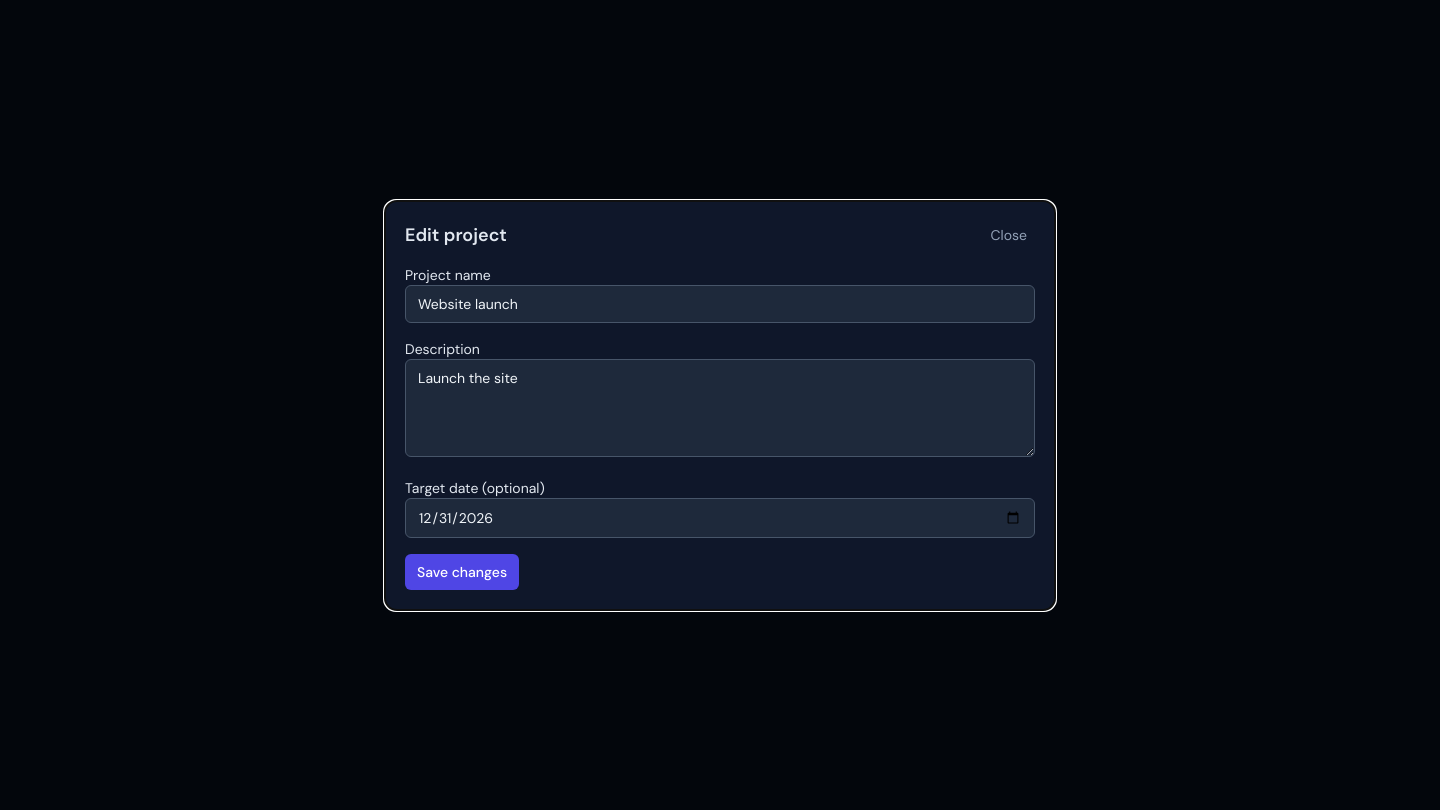
keeps entered values and shows errors when saving fails
The width and height of the screenshot is (1440, 810).
Step 1. Replace the text in the field labelled "Project name" with "Renamed" → (720, 304), box left=405, top=284, right=1035, bottom=322
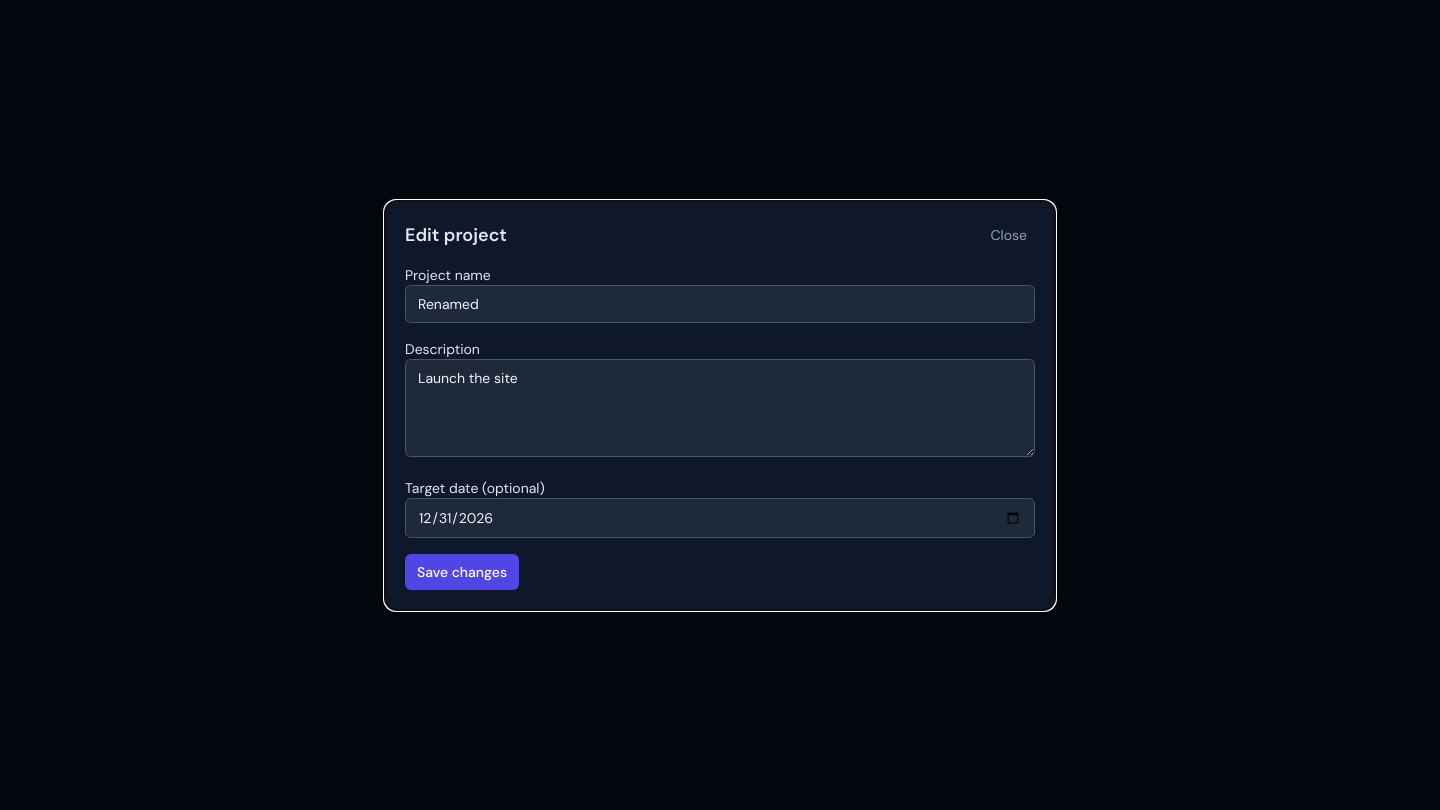
Step 2. Clear the date field labelled "Target date (optional)" → (720, 518), box left=405, top=498, right=1035, bottom=538
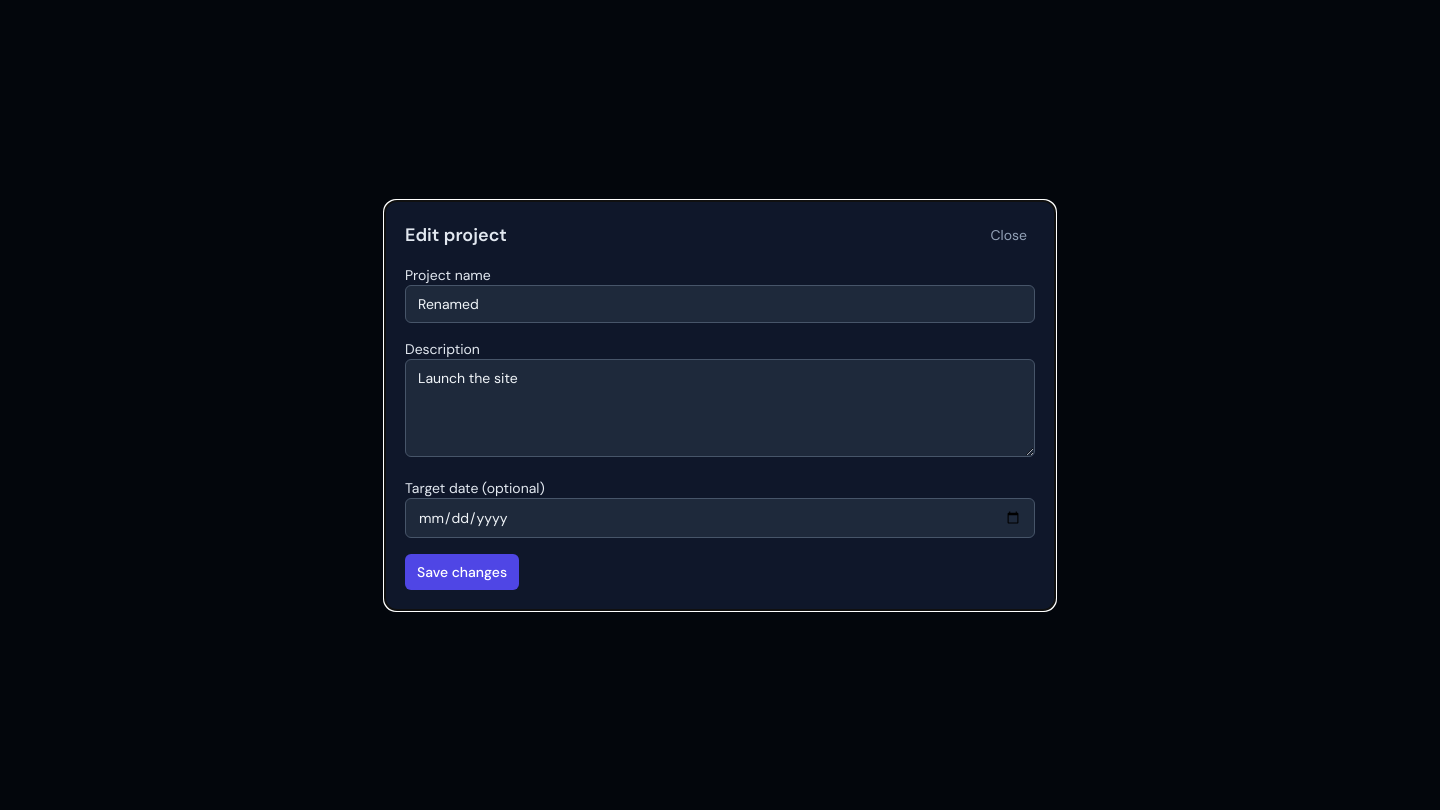
Step 3. Click the button "Save changes" → (462, 572), box left=405, top=554, right=519, bottom=590
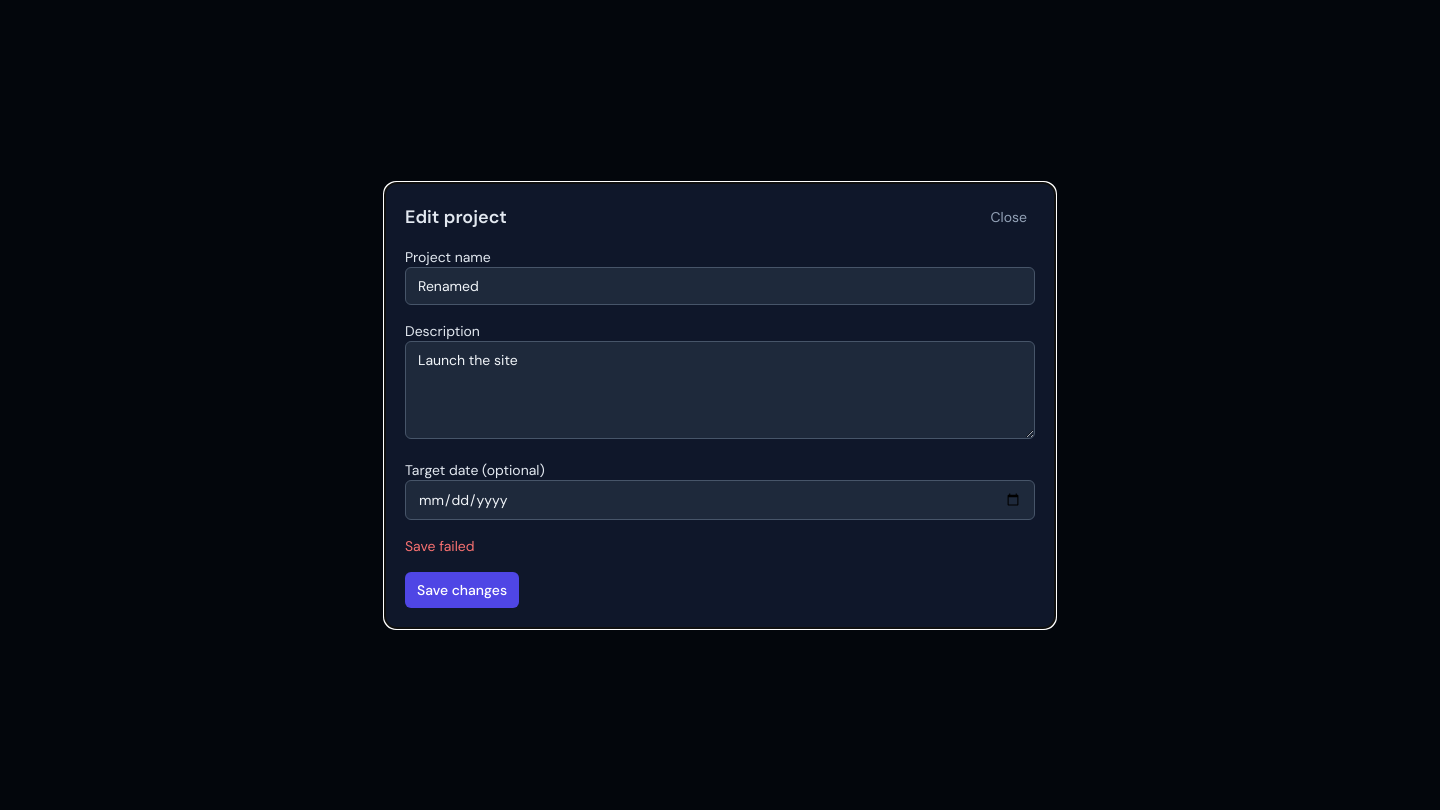
Expected: the message reads "Save failed", left=405, top=536, right=474, bottom=554
